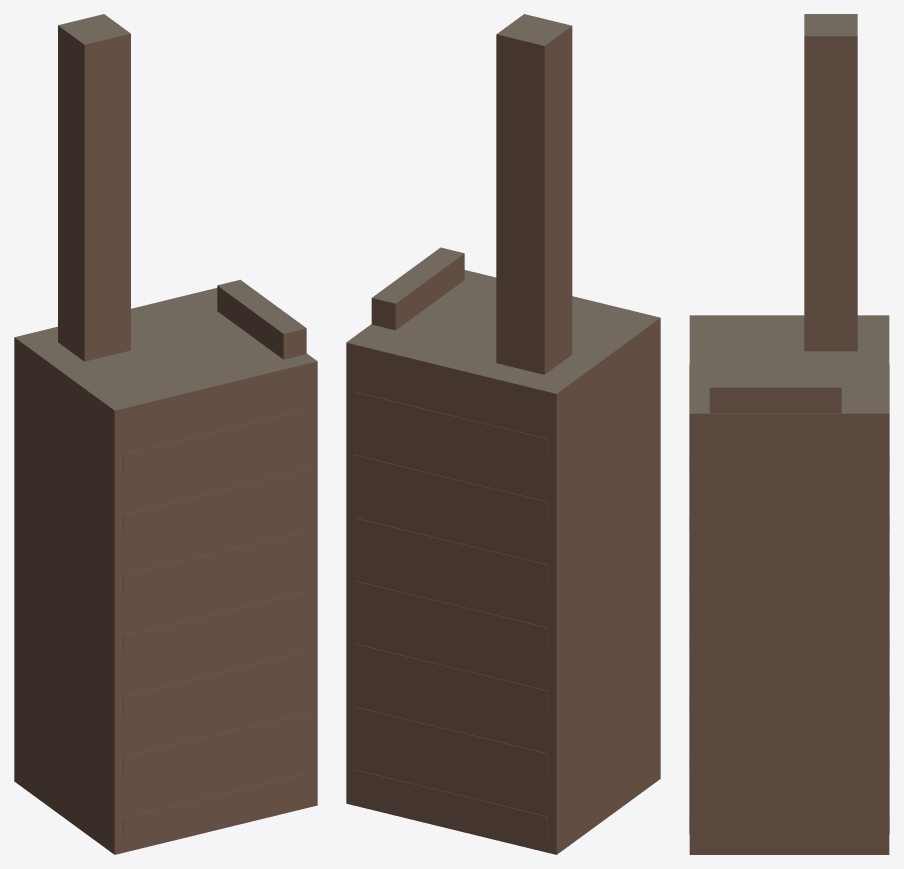
Rendered from ew-boiler-tower.far-facades-v1.lod2.glb.
The picture shows the model from 3 angles, left to right: view 1: azimuth 30°, elevation 25°; view 2: azimuth 150°, elevation 25°; view 3: azimuth 270°, elevation 25°; orthographic projection. The views are drawn at different scales.
Parts seen in each view (by area): view 1: ew-boiler-tower; view 2: ew-boiler-tower; view 3: ew-boiler-tower.
Part boxes in pixels (left/top/right/bottom): ew-boiler-tower: left=14, top=14, right=317, bottom=854; ew-boiler-tower: left=346, top=14, right=660, bottom=854; ew-boiler-tower: left=689, top=14, right=889, bottom=854.
Size of the model in its own units: 14 by 50.2 by 12.06.
